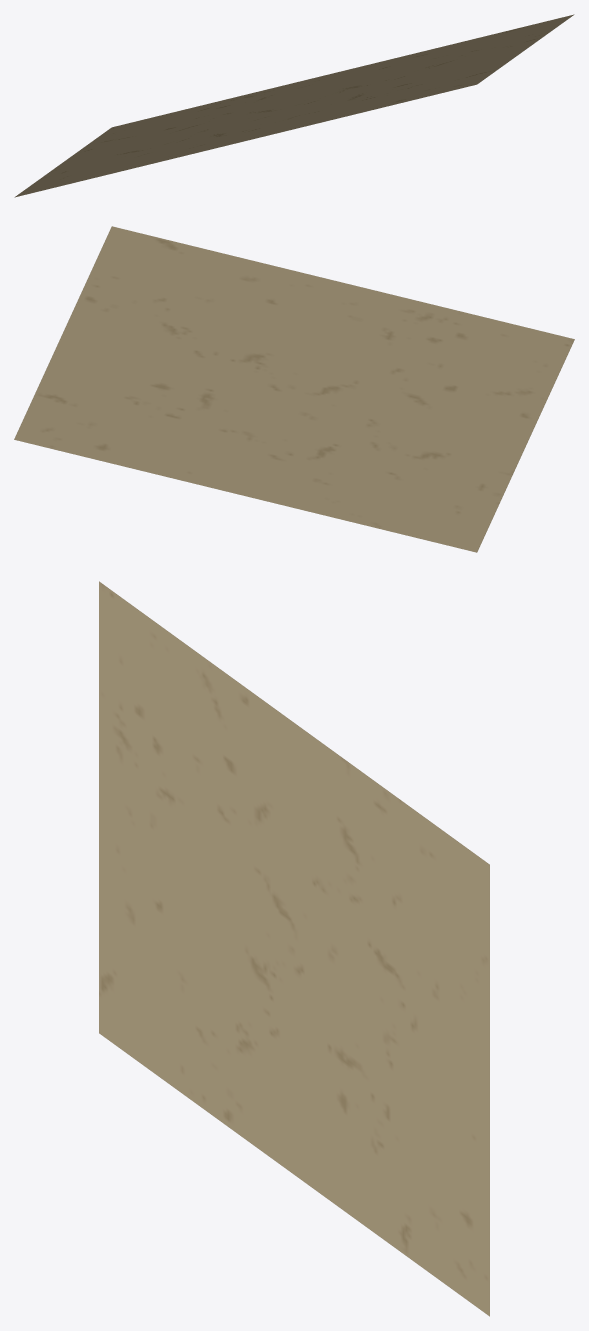
The model's file is SW_ENV_StationStair_Short_Ceiling_FF_Collision.fbx.
3 renders of one model, top to bottom at view 1: azimuth 30°, elevation 25°; view 2: azimuth 150°, elevation 25°; view 3: azimuth 270°, elevation 25°, orthographic. The views are drawn at different scales.
Visible parts, largest first — view 1: SW_ENV_StationStair_Short_Ceiling_FF_Collision; view 2: SW_ENV_StationStair_Short_Ceiling_FF_Collision; view 3: SW_ENV_StationStair_Short_Ceiling_FF_Collision.
Part boxes in pixels (bbox=[...]): SW_ENV_StationStair_Short_Ceiling_FF_Collision: bbox=[14, 14, 574, 197]; SW_ENV_StationStair_Short_Ceiling_FF_Collision: bbox=[14, 226, 574, 552]; SW_ENV_StationStair_Short_Ceiling_FF_Collision: bbox=[99, 581, 489, 1316].
Size of the model in its own units: 410 by 120 by 150.
